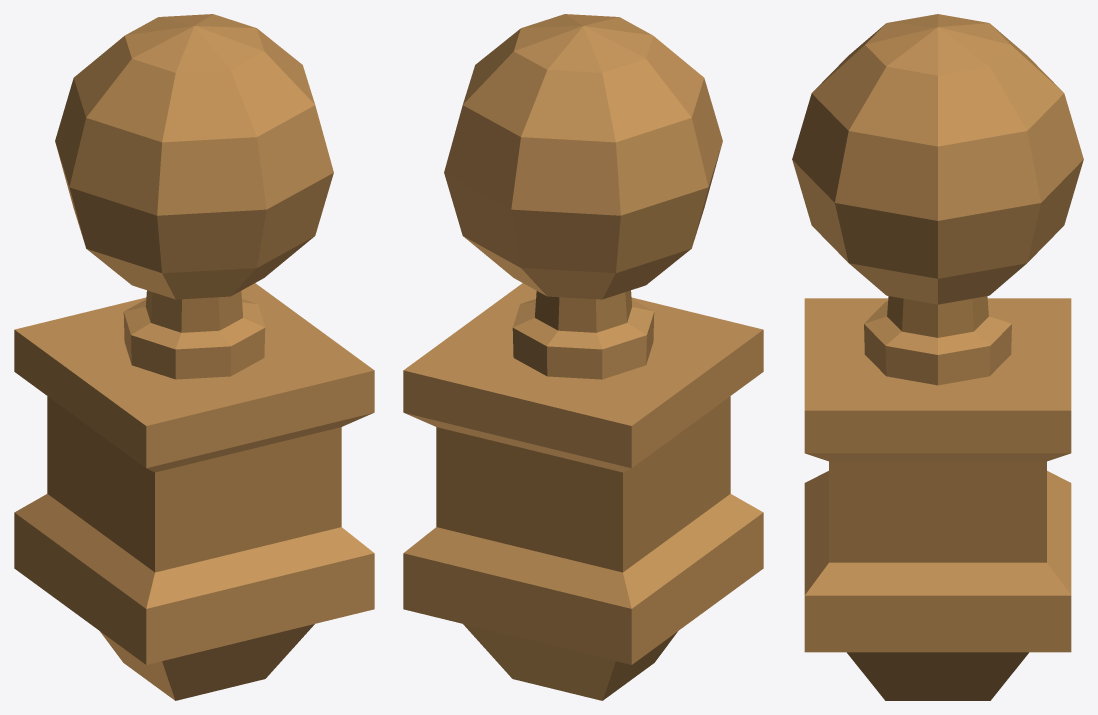
File: SM_Bld_Manor_Cap_01.fbx
The picture shows the model from 3 angles, left to right: view 1: azimuth 30°, elevation 25°; view 2: azimuth 150°, elevation 25°; view 3: azimuth 270°, elevation 25°; orthographic projection.
Parts seen in each view (by area): view 1: SM_Bld_Manor_Cap_01; view 2: SM_Bld_Manor_Cap_01; view 3: SM_Bld_Manor_Cap_01.
Part boxes in pixels (x1=…): SM_Bld_Manor_Cap_01: x1=14, y1=14, x2=374, y2=700; SM_Bld_Manor_Cap_01: x1=403, y1=14, x2=763, y2=700; SM_Bld_Manor_Cap_01: x1=792, y1=14, x2=1083, y2=700.
Bounding box in the file's own units: 39.66 × 97.72 × 39.66.
1 material, 1 textured.
